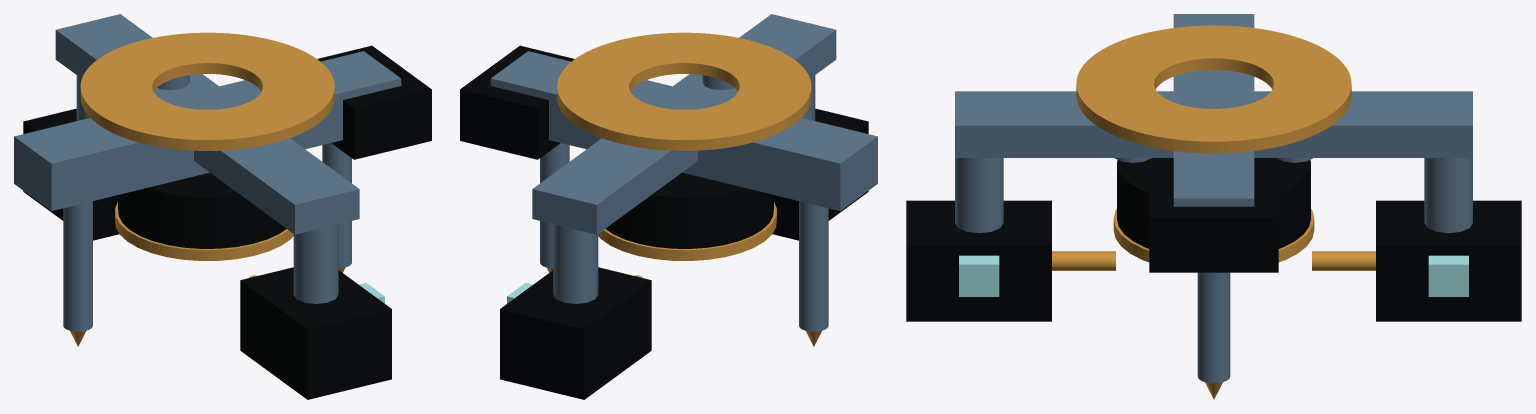
The model's file is capture_head.dae.
3 renders of one model, left to right at view 1: azimuth 30°, elevation 25°; view 2: azimuth 150°, elevation 25°; view 3: azimuth 270°, elevation 25°, orthographic. The views are drawn at different scales.
Parts seen in each view (by area): view 1: node0, node1, node7, node2, node15, node17, node11, node6, node16, node4, node13; view 2: node0, node1, node4, node2, node15, node17, node11, node3, node16, node7, node13; view 3: node0, node2, node4, node7, node17, node1, node15, node13, node3, node6, node5, node8 (+3 smaller).
Boxes of the visible parts, left/top/right/bottom form: node0: left=80, top=32, right=334, bottom=150; node1: left=14, top=51, right=401, bottom=211; node7: left=240, top=267, right=391, bottom=399; node2: left=55, top=14, right=359, bottom=234; node15: left=118, top=172, right=286, bottom=248; node17: left=317, top=45, right=431, bottom=159; node11: left=63, top=201, right=92, bottom=331; node6: left=293, top=224, right=338, bottom=303; node16: left=115, top=202, right=293, bottom=260; node4: left=23, top=108, right=119, bottom=240; node13: left=322, top=143, right=351, bottom=268; node0: left=557, top=32, right=811, bottom=150; node1: left=490, top=51, right=877, bottom=211; node4: left=500, top=267, right=651, bottom=399; node2: left=532, top=14, right=836, bottom=234; node15: left=605, top=172, right=773, bottom=248; node17: left=460, top=45, right=574, bottom=159; node11: left=799, top=201, right=828, bottom=331; node3: left=553, top=224, right=598, bottom=303; node16: left=598, top=202, right=776, bottom=260; node7: left=772, top=108, right=868, bottom=240; node13: left=540, top=143, right=569, bottom=268; node0: left=1076, top=25, right=1351, bottom=153; node2: left=955, top=91, right=1472, bottom=157; node4: left=1376, top=200, right=1521, bottom=321; node7: left=906, top=200, right=1051, bottom=321; node17: left=1149, top=176, right=1278, bottom=272; node1: left=1173, top=14, right=1254, bottom=206; node15: left=1117, top=158, right=1310, bottom=248; node13: left=1197, top=272, right=1230, bottom=383; node3: left=1424, top=158, right=1472, bottom=233; node6: left=955, top=158, right=1003, bottom=233; node5: left=1428, top=255, right=1468, bottom=296; node8: left=959, top=255, right=999, bottom=296.
Size of the model in its own units: 0.285 by 0.38 by 0.169.
